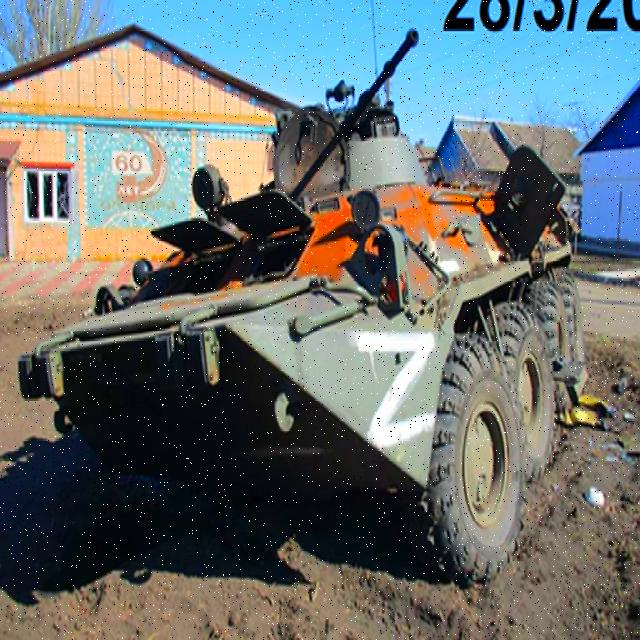APC-IFV: (28, 22, 588, 588)
